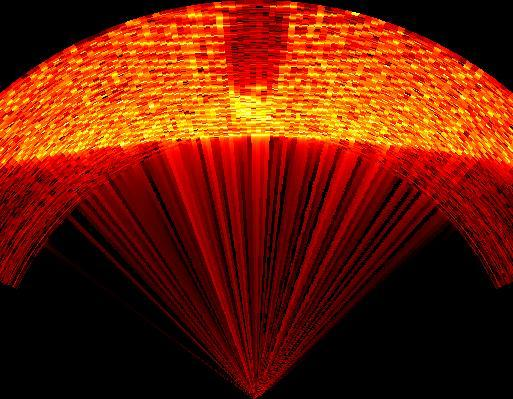box_crate: (224, 11, 286, 94)
